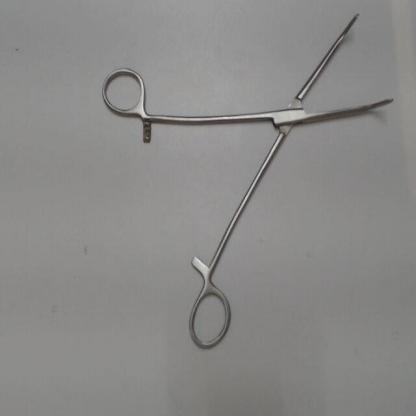Lahey Forceps: (96, 3, 406, 360)
